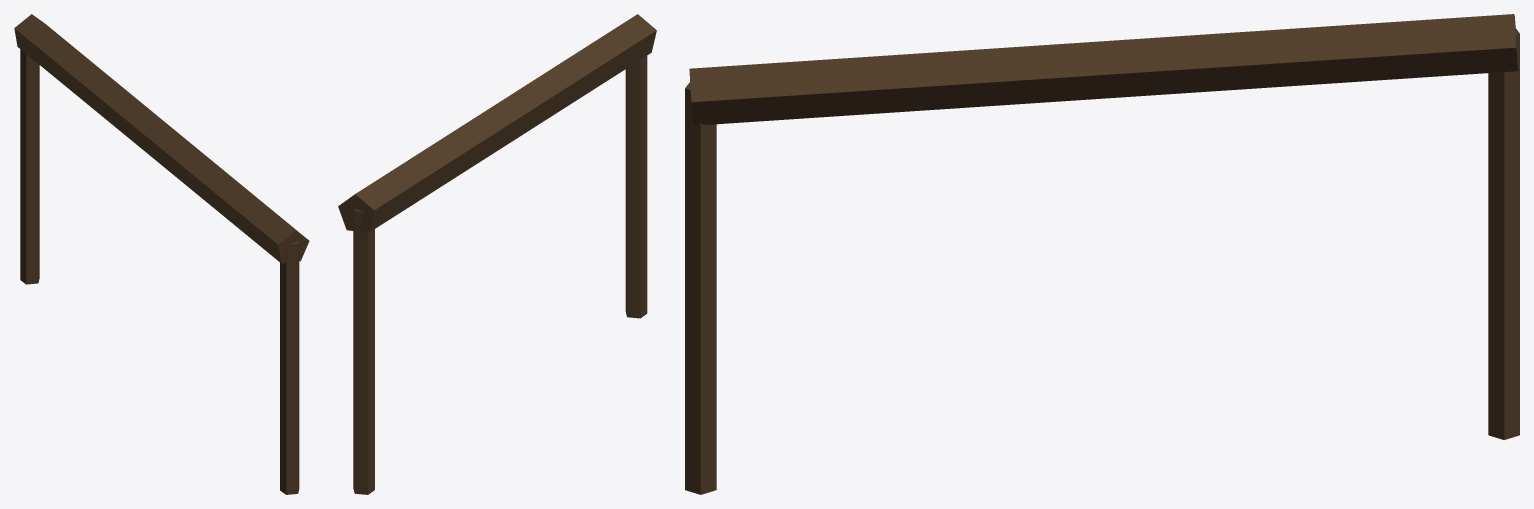
Rendered from Goal.fbx.
3 renders of one model, left to right at view 1: azimuth 30°, elevation 25°; view 2: azimuth 150°, elevation 25°; view 3: azimuth 270°, elevation 25°, orthographic. The views are drawn at different scales.
Visible parts, largest first — view 1: Goal; view 2: Goal; view 3: Goal.
Boxes of the visible parts, x1,y1,x2,y2 form: Goal: (14, 14, 309, 494); Goal: (338, 14, 656, 494); Goal: (685, 14, 1519, 494).
Bounding box in the file's own units: 38.91 × 281 × 453.
